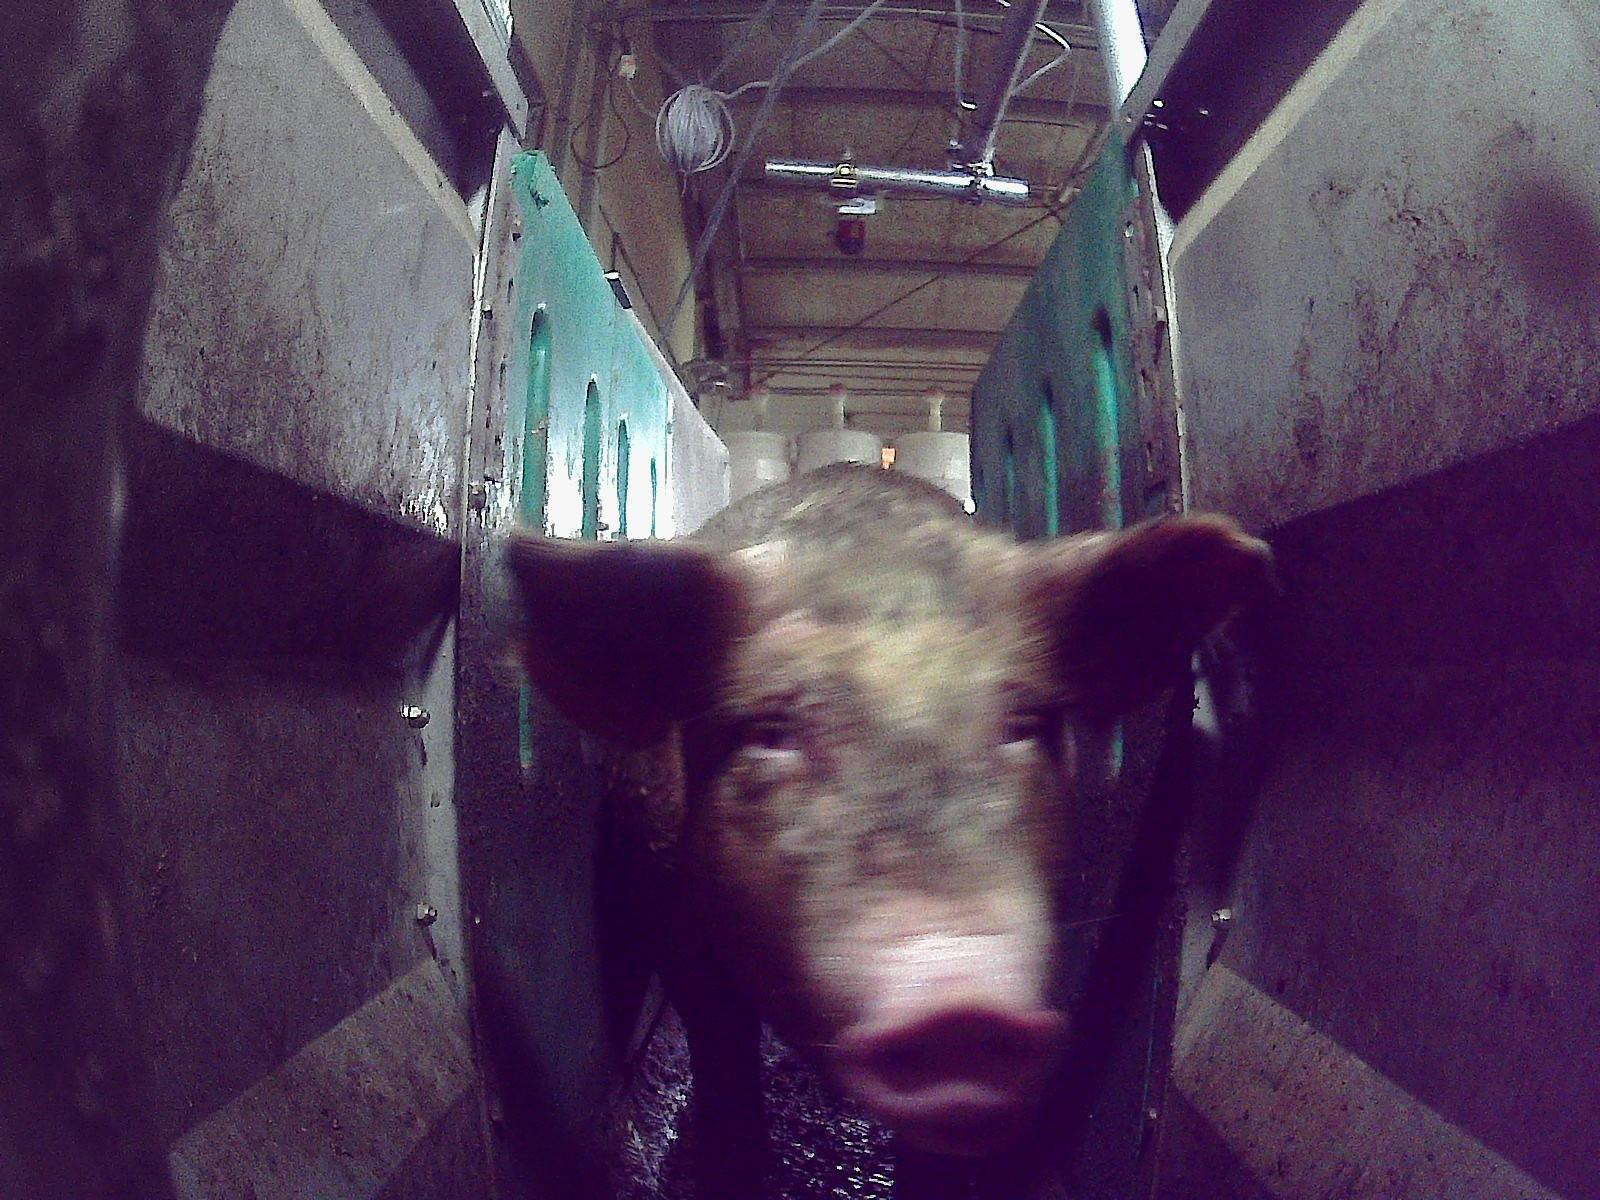Face: (669, 550, 1069, 1150)
